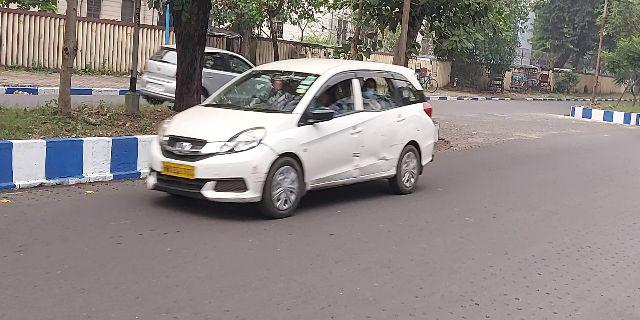Car: (148, 58, 452, 203)
